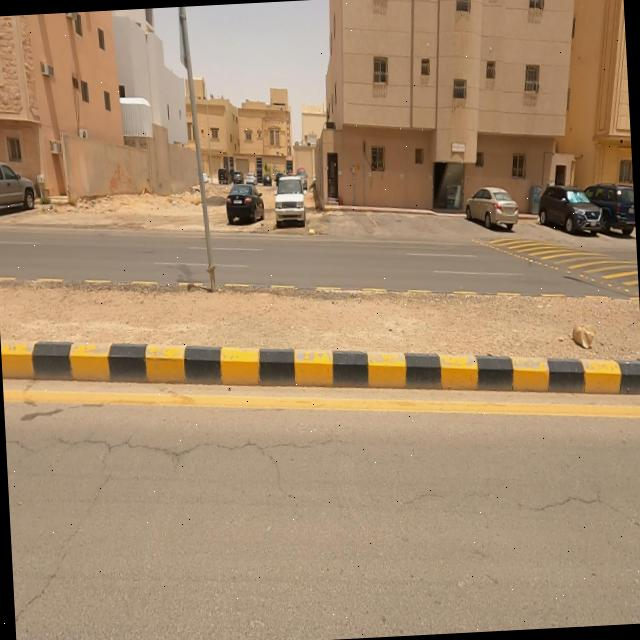Graffiti: (103, 162, 135, 192)
